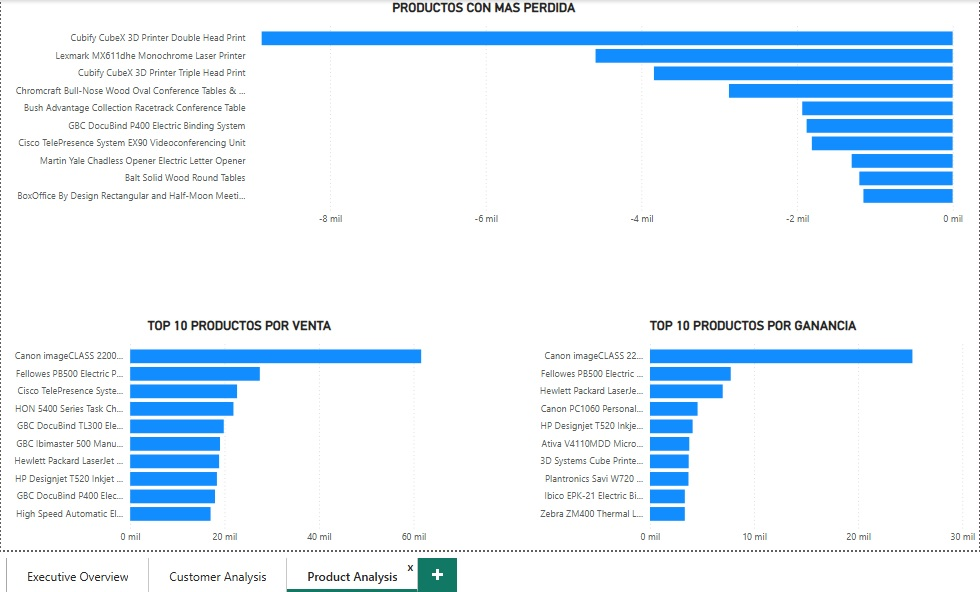

Layout of this report page (visuals, bound fields, positions):
{"tool":"powerbi","page":{"name":"Product Analysis","canvas":[1280,720],"ordinal":2},"visuals":[{"type":"clusteredBarChart","title":"TOP 10 PRODUCTOS POR VENTA","fields":{"Category":["Sample Superstore.Product Name"],"Y":["Sum(Sample Superstore.Sales)"]},"box":[0,416,624,304],"z":0},{"type":"clusteredBarChart","title":"TOP 10 PRODUCTOS POR GANANCIA","fields":{"Category":["Sample Superstore.Product Name"],"Y":["Sum(Sample Superstore.Profit)"]},"box":[688,416,592,304],"z":1},{"type":"clusteredBarChart","title":"PRODUCTOS CON MAS PERDIDA","fields":{"Category":["Sample Superstore.Product Name"],"Y":["Sum(Sample Superstore.Profit)"]},"box":[0,0,1264,304],"z":2}]}

Visuals, with their boxes on the page's 1280x720 design canvas (x1, y1, x2, y2). These are canvas units, not pixel positions in the 980x592 screenshot, which may show the page scaled, cropped or inside an application window:
"TOP 10 PRODUCTOS POR VENTA" clusteredBarChart: pyautogui.locateOnScreen(0, 416, 624, 720)
"TOP 10 PRODUCTOS POR GANANCIA" clusteredBarChart: pyautogui.locateOnScreen(688, 416, 1280, 720)
"PRODUCTOS CON MAS PERDIDA" clusteredBarChart: pyautogui.locateOnScreen(0, 0, 1264, 304)
